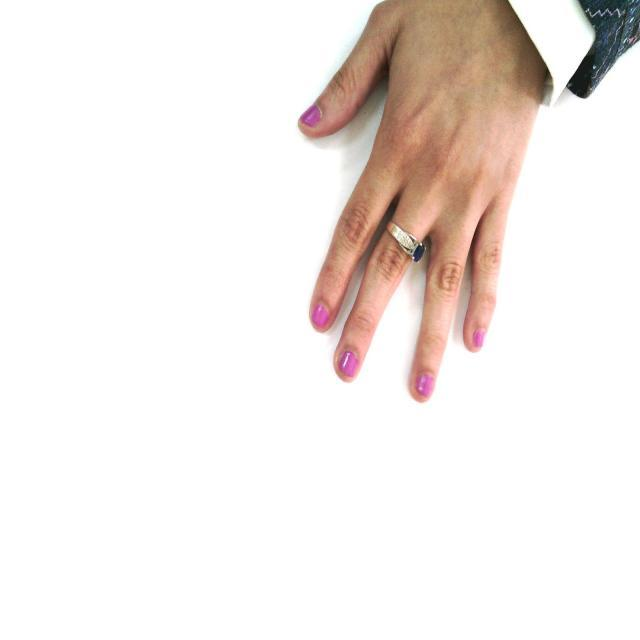Fingernail: (300, 102, 321, 125), (340, 351, 357, 375), (312, 305, 328, 329), (418, 374, 435, 396), (472, 329, 485, 349)
